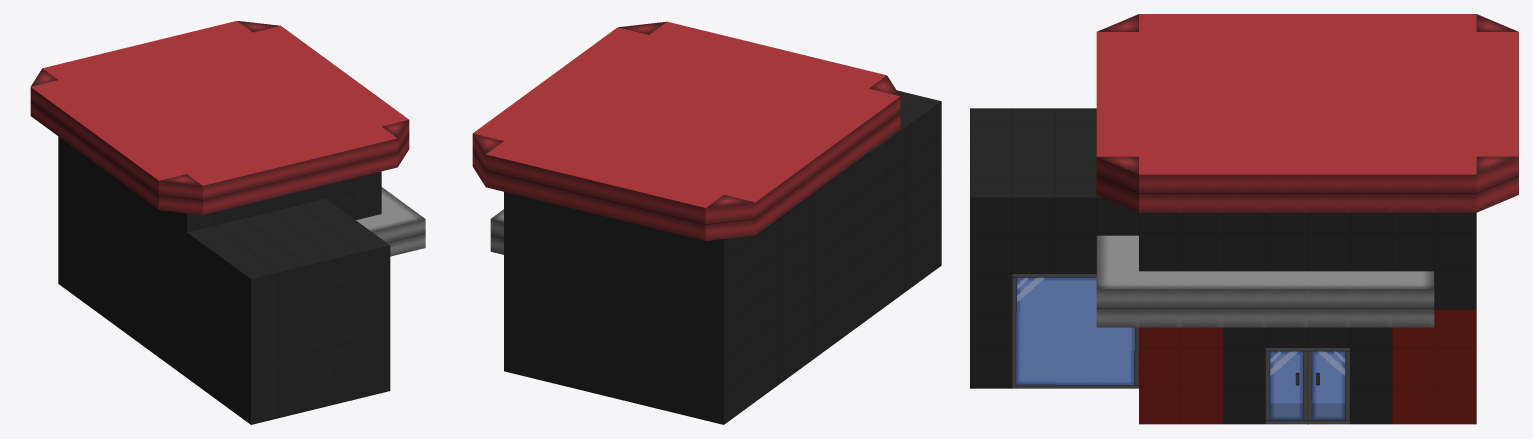
The model's file is chefshackExterior.dae.
3 views of the same model, side by side, from view 1: azimuth 30°, elevation 25°; view 2: azimuth 150°, elevation 25°; view 3: azimuth 270°, elevation 25° (orthographic). The views are drawn at different scales.
Visible parts, largest first — view 1: ChefShack-col; view 2: ChefShack-col; view 3: ChefShack-col.
Part boxes in pixels (bbox=[...]): ChefShack-col: bbox=[30, 21, 425, 424]; ChefShack-col: bbox=[472, 21, 941, 424]; ChefShack-col: bbox=[970, 14, 1518, 424].
Bounding box in the file's own units: 17.44 × 25.19 × 13.58.
Materials: 1 (1 with a texture image).
